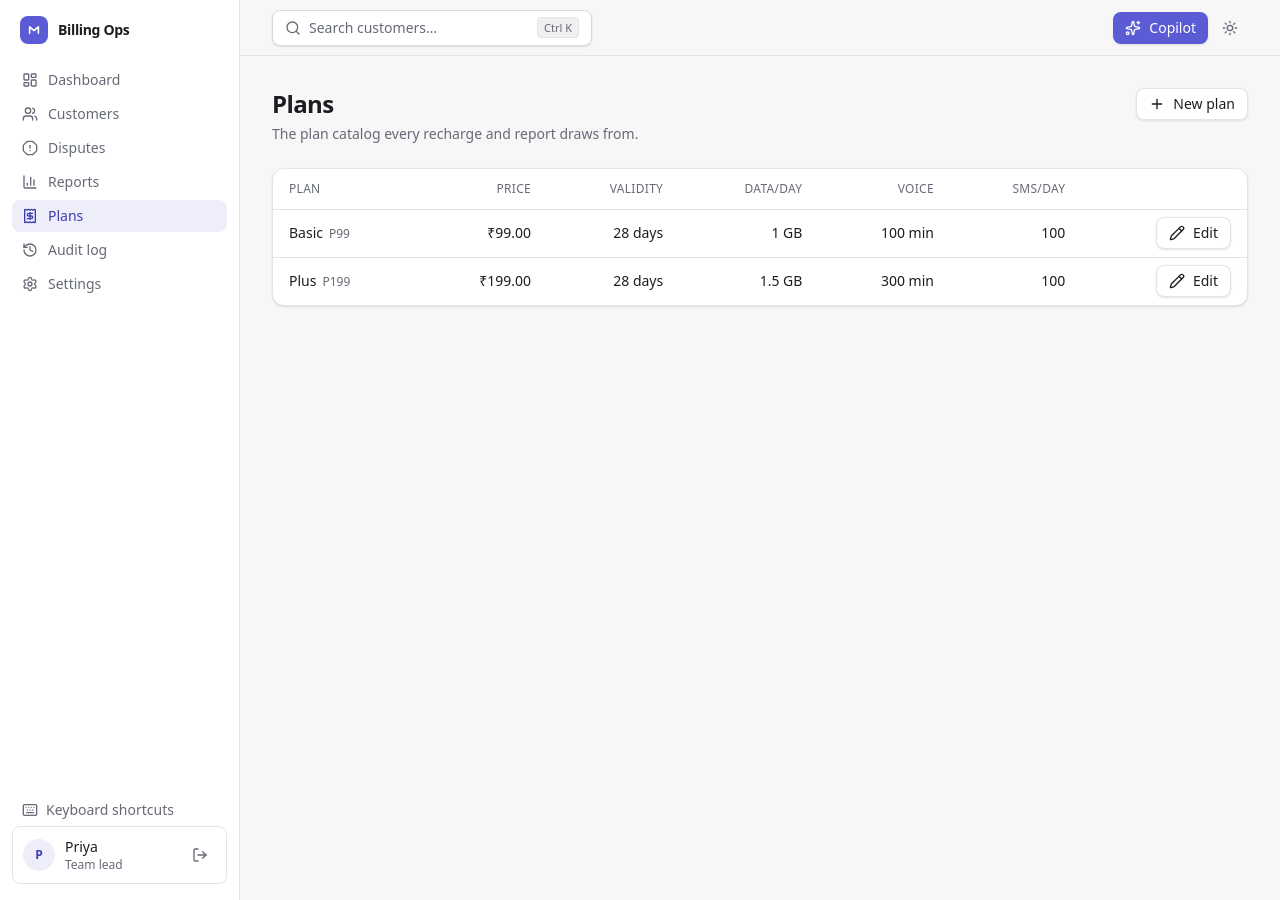
Test: Plans page › validates the form before saving
Expected: the table with test id "plans-table" is shown, [273,169,1247,305]
Click the button with test id "new-plan": (1192, 104) [1136,88,1248,120]
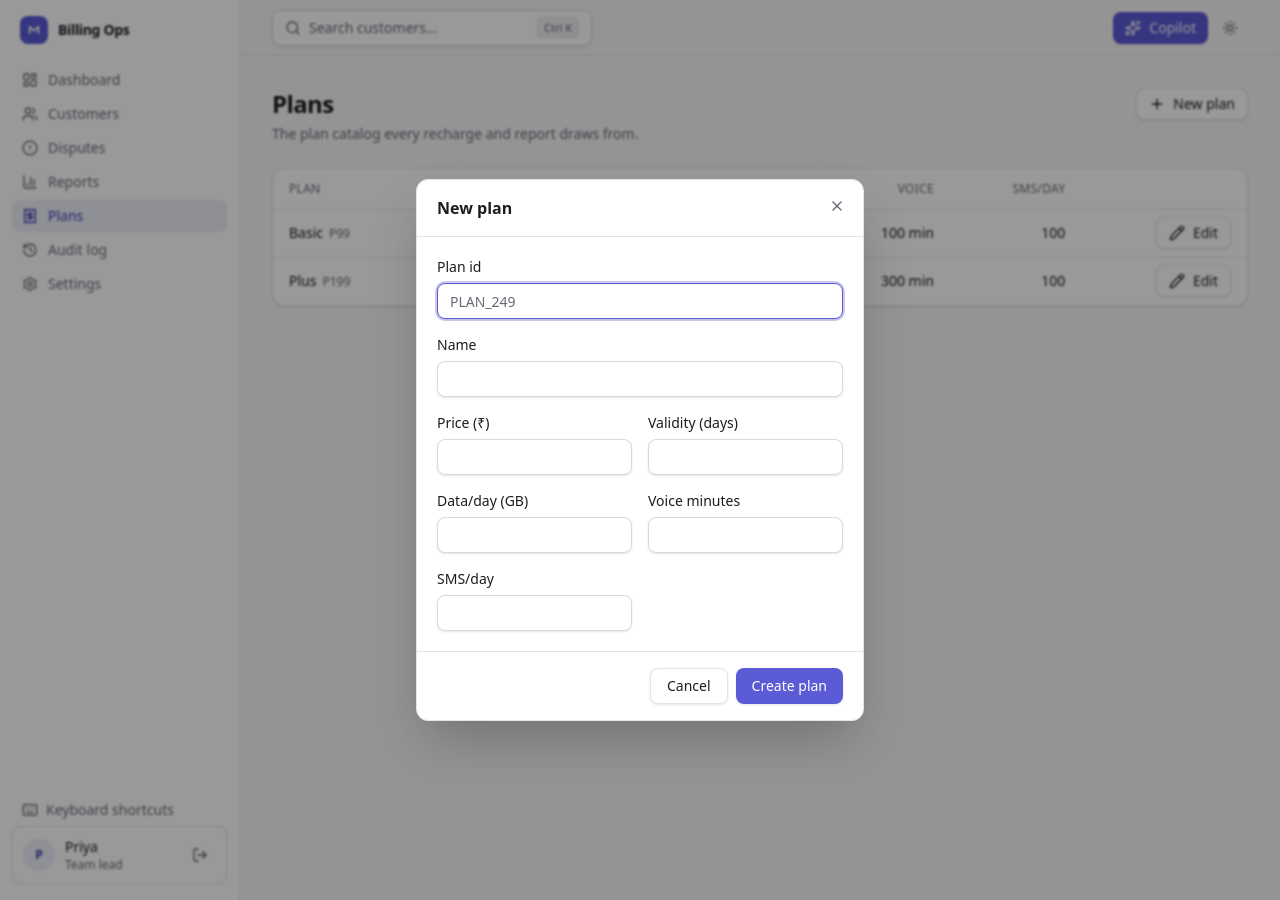
Click the button with test id "plan-save": (789, 686) [736,668,843,704]
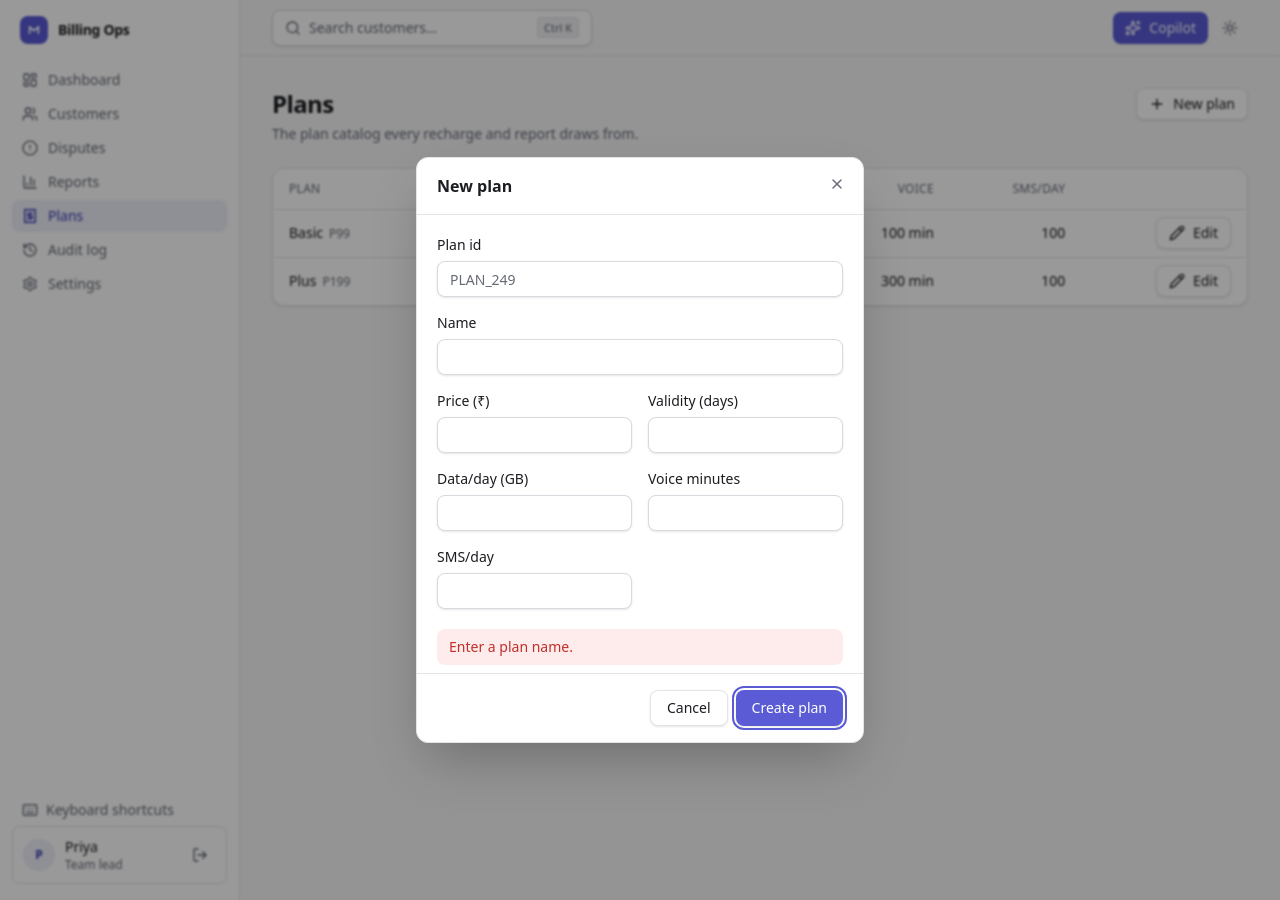
Result: the message with test id "plan-form-error" shows "plan name" at [449,637,573,656]
